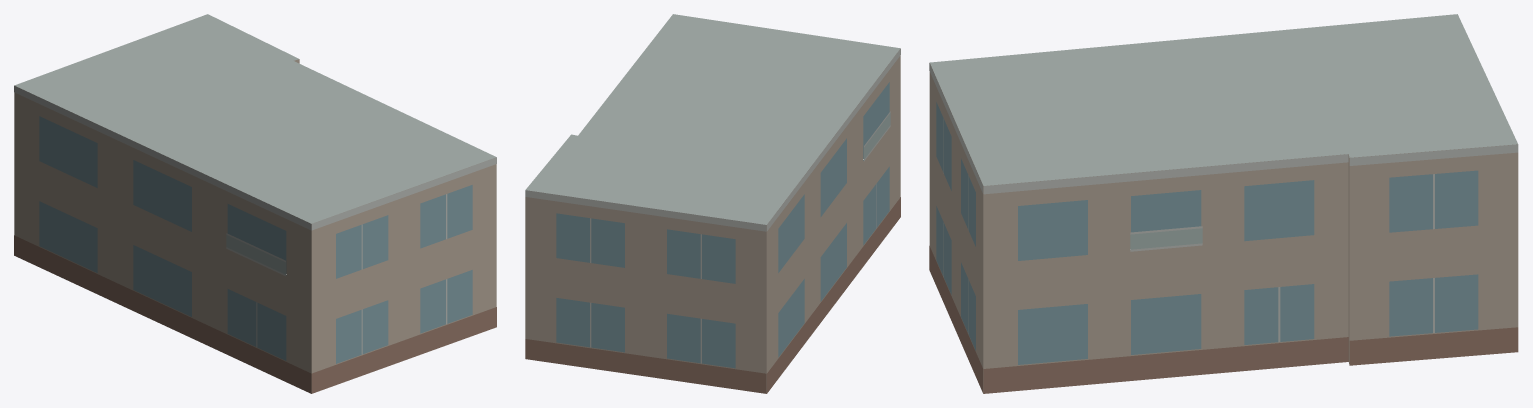
File: survey-upis-32773088.glb
3 views of the same model, side by side, from view 1: azimuth 30°, elevation 25°; view 2: azimuth 150°, elevation 25°; view 3: azimuth 270°, elevation 25° (orthographic). The views are drawn at different scales.
Visible parts, largest first — view 1: survey-upis-32773088.tmp; view 2: survey-upis-32773088.tmp; view 3: survey-upis-32773088.tmp.
Part boxes in pixels (x1,y1,x2,y2): survey-upis-32773088.tmp: [14, 14, 496, 393]; survey-upis-32773088.tmp: [525, 14, 900, 393]; survey-upis-32773088.tmp: [929, 14, 1518, 393].
Bounding box in the file's own units: 10.84 × 6.1 × 15.67.
